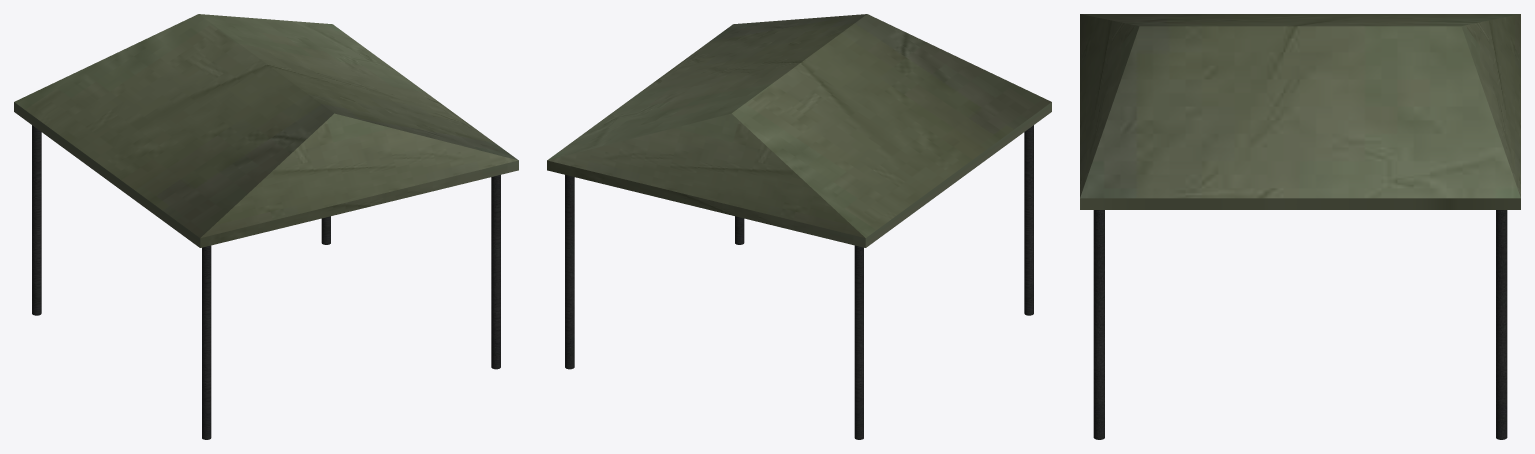
File: Tent.fbx
The picture shows the model from 3 angles, left to right: view 1: azimuth 30°, elevation 25°; view 2: azimuth 150°, elevation 25°; view 3: azimuth 270°, elevation 25°; orthographic projection. The views are drawn at different scales.
Parts seen in each view (by area): view 1: Cube.031, Cylinder.014, Cylinder.015, Cylinder.012; view 2: Cube.031, Cylinder.012, Cylinder.013, Cylinder.015; view 3: Cube.031, Cylinder.013, Cylinder.014.
Part boxes in pixels (<box>): Cube.031: <box>14,14,518,247</box>; Cylinder.014: <box>491,175,500,369</box>; Cylinder.015: <box>202,245,211,439</box>; Cylinder.012: <box>32,125,41,315</box>; Cube.031: <box>547,14,1051,247</box>; Cylinder.012: <box>854,245,863,439</box>; Cylinder.013: <box>565,175,574,369</box>; Cylinder.015: <box>1024,125,1033,315</box>; Cube.031: <box>1080,14,1520,209</box>; Cylinder.013: <box>1496,210,1507,439</box>; Cylinder.014: <box>1093,210,1104,439</box>.
Bounding box in the file's own units: 383 × 318 × 388.
